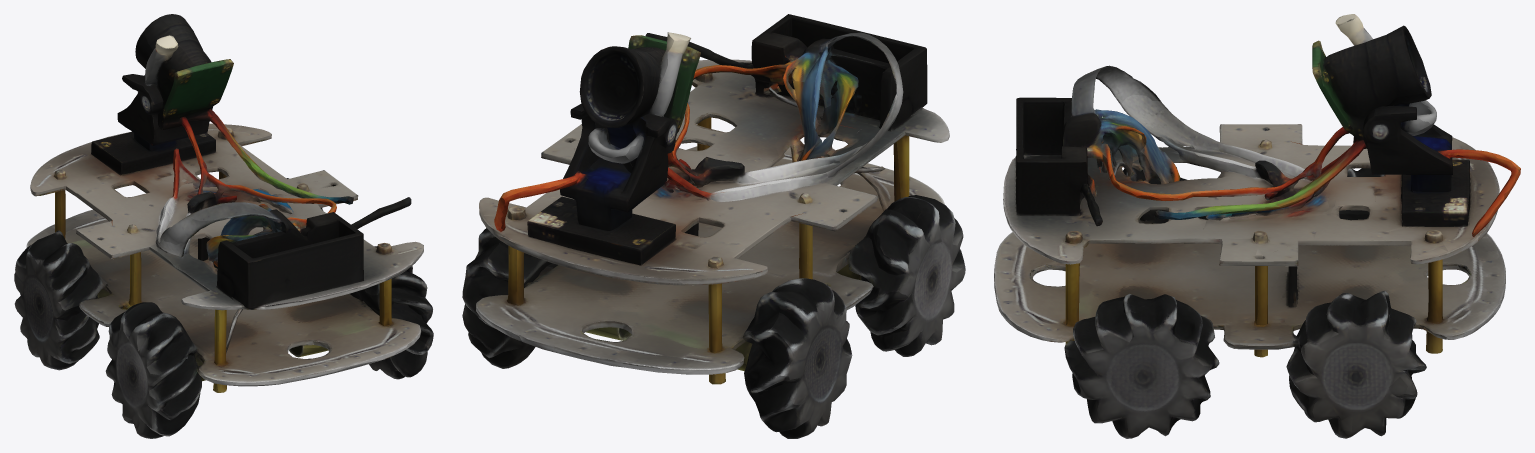
Rendered from sam_model2.glb.
3 renders of one model, left to right at view 1: azimuth 30°, elevation 25°; view 2: azimuth 150°, elevation 25°; view 3: azimuth 270°, elevation 25°, orthographic. The views are drawn at different scales.
Parts seen in each view (by area): view 1: body, wheel_bl, wheel_fl, wheel_br; view 2: body, wheel_bl, wheel_fl, wheel_fr; view 3: body, wheel_br, wheel_fr, wheel_fl, wheel_bl.
Boxes of the visible parts, x1=… form: body: x1=26, y1=14, x2=423, y2=392; wheel_bl: x1=105, y1=302, x2=201, y2=438; wheel_fl: x1=14, y1=230, x2=105, y2=370; wheel_br: x1=350, y1=246, x2=433, y2=379; body: x1=476, y1=14, x2=949, y2=384; wheel_bl: x1=848, y1=195, x2=965, y2=356; wheel_fl: x1=742, y1=278, x2=852, y2=438; wheel_fr: x1=462, y1=228, x2=557, y2=368; body: x1=994, y1=14, x2=1520, y2=387; wheel_br: x1=1064, y1=293, x2=1219, y2=438; wheel_fr: x1=1286, y1=291, x2=1426, y2=438; wheel_fl: x1=1339, y1=168, x2=1384, y2=220; wheel_bl: x1=1123, y1=167, x2=1208, y2=223.
Bounding box in the file's own units: 0.7004 × 0.7246 × 1.
5 materials, 5 textured.
